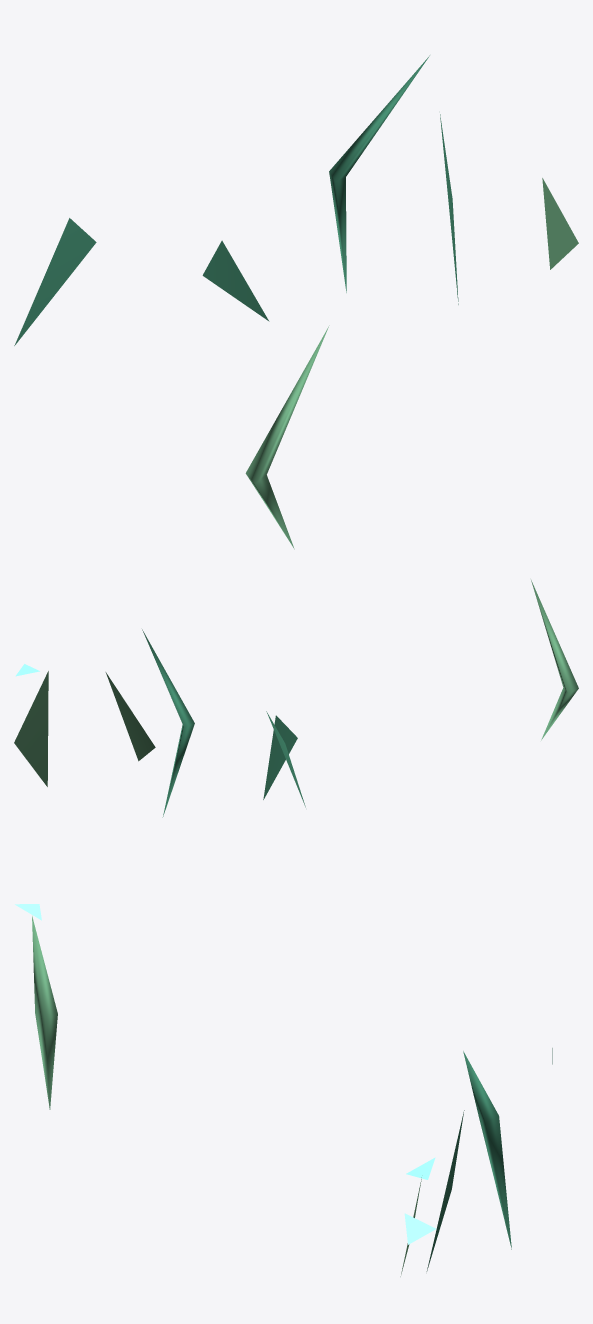
Rendered from grotto_gc_algae_b_lod2.glb.
3 views of the same model, one above another, from view 1: azimuth 30°, elevation 25°; view 2: azimuth 150°, elevation 25°; view 3: azimuth 270°, elevation 25° (orthographic). The views are drawn at different scales.
Visible parts, largest first — view 1: grotto_gc_algae_b.001; view 2: grotto_gc_algae_b.001; view 3: grotto_gc_algae_b.001.
Part boxes in pixels (x1,y1,x2,y2): grotto_gc_algae_b.001: (14,55,578,549); grotto_gc_algae_b.001: (14,580,578,817); grotto_gc_algae_b.001: (15,904,552,1276).
Size of the model in its own units: 2.08 by 0.8875 by 2.01.
